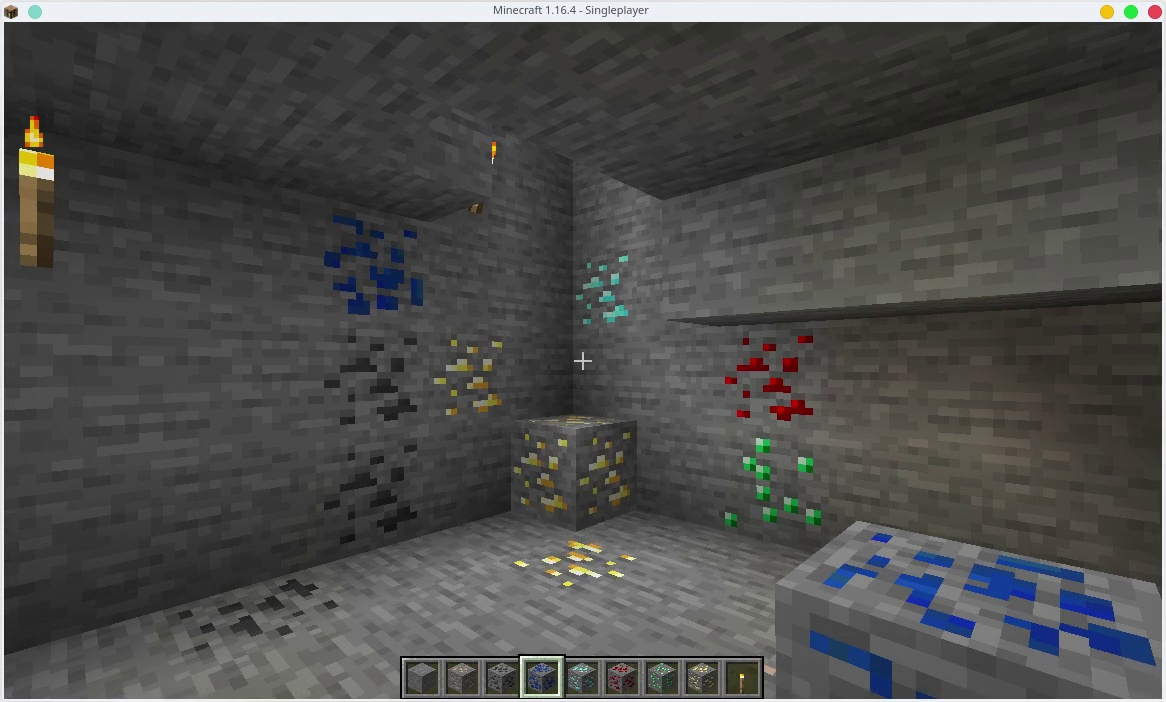gold: (514, 418, 630, 521), (514, 536, 640, 599), (428, 336, 503, 418), (687, 661, 721, 700)
